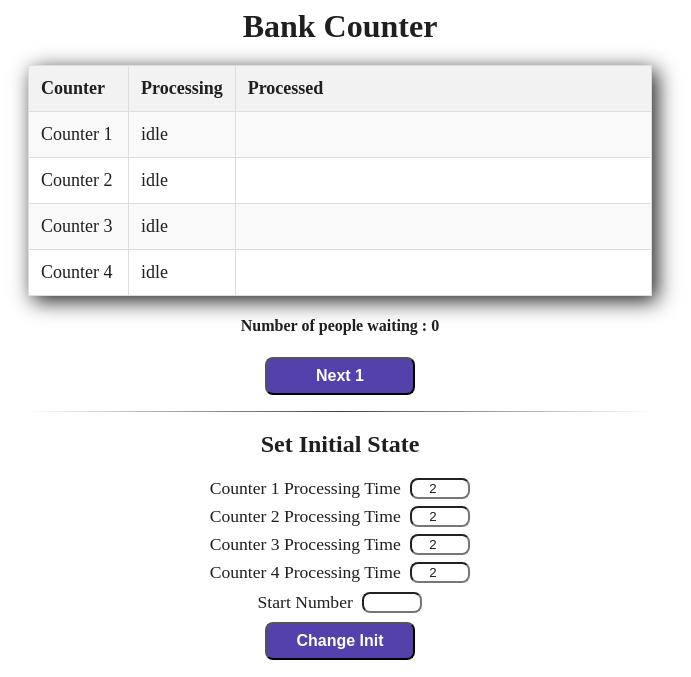
Scenario: Homepage › clicks the "Next" button then counter one after 2 seconds finishes processing client 1 and returns back idle status
Click the button "Next 1" at (340, 376), box [265,356,415,394]
Wait 2000 ms
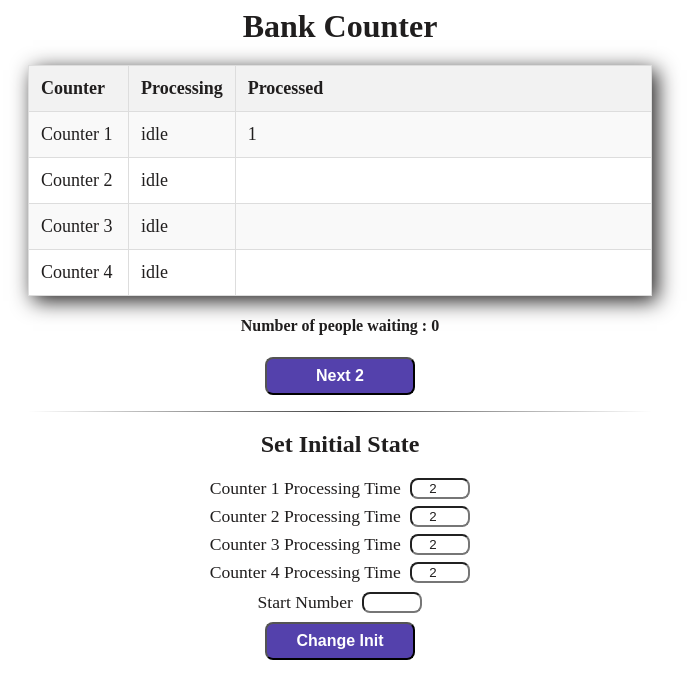
Expected: the 1st cell "idle" is shown, [128,112,235,158]
Expected: the cell "1" is shown, [235,112,652,158]
